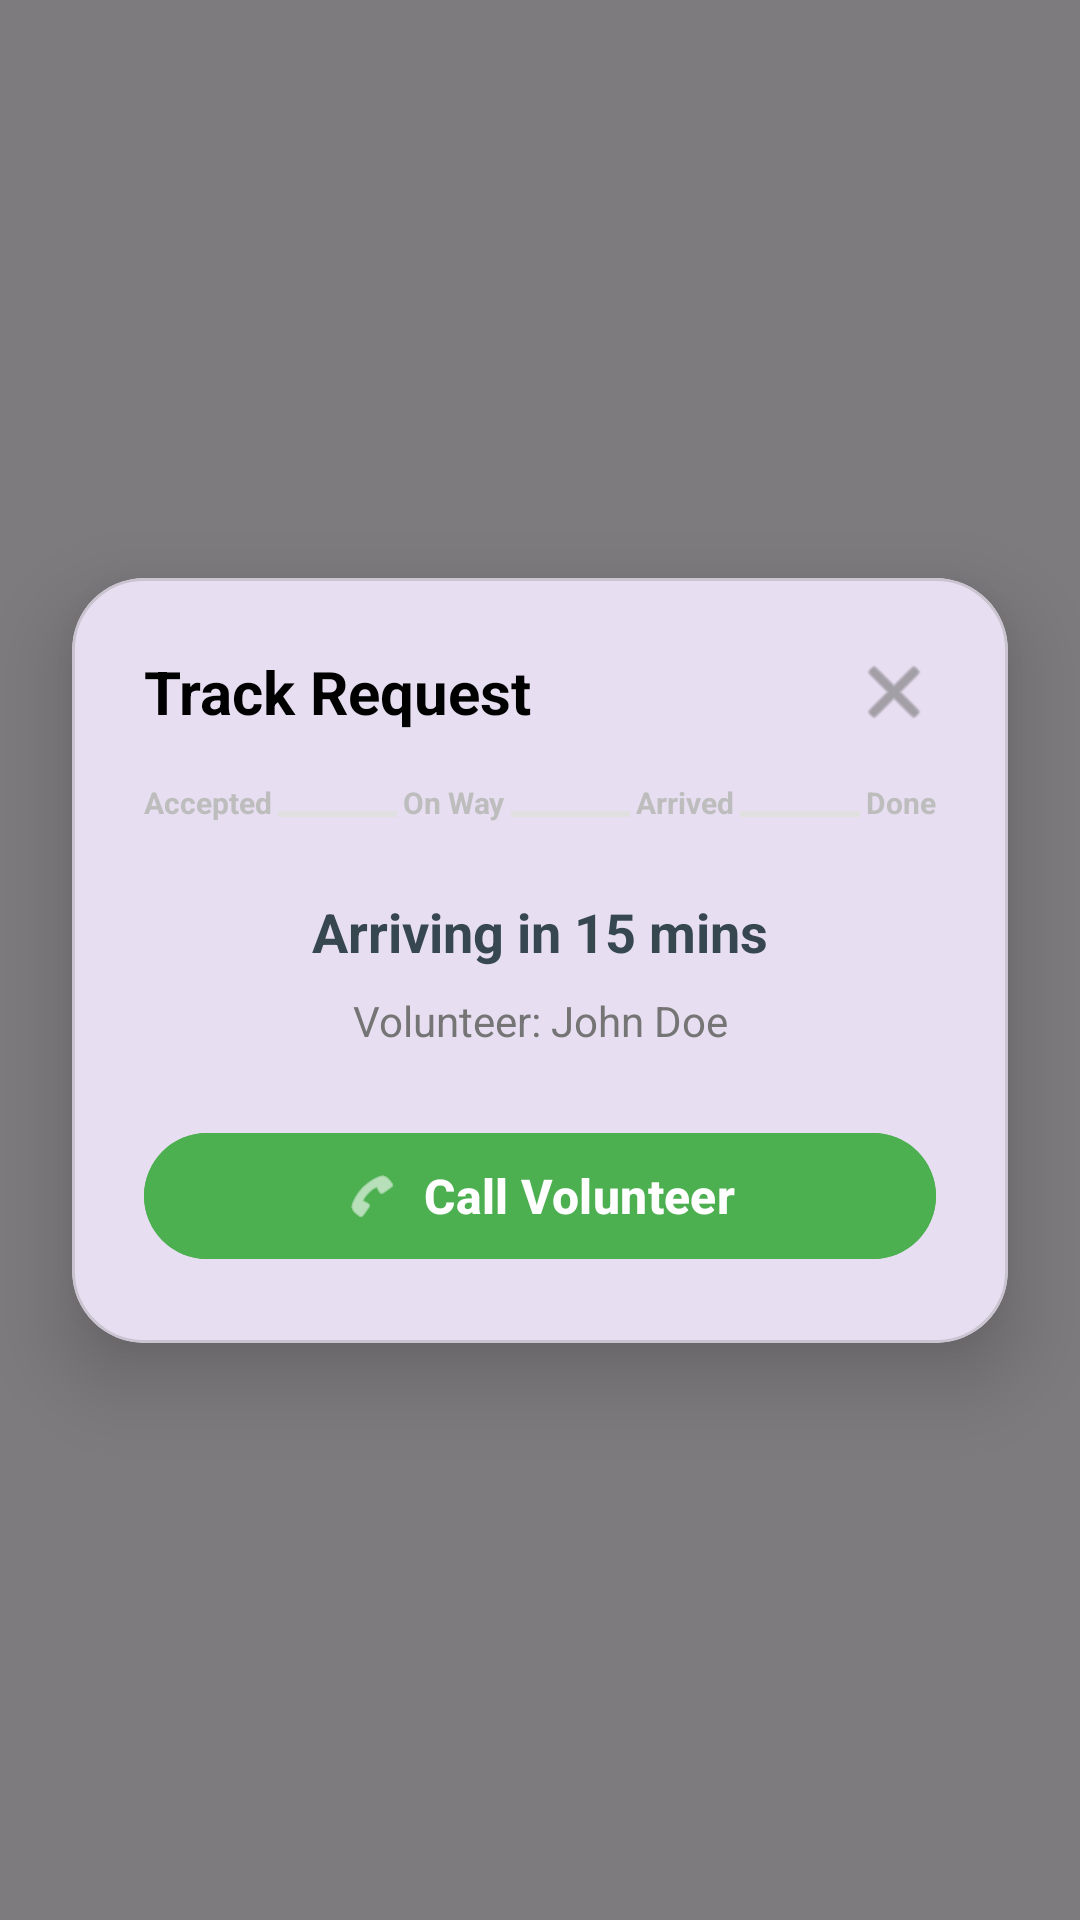

Point at icon controls on the screen. Image size 1080x1920, points as (x,y).
close clear cancel: (894,692)
